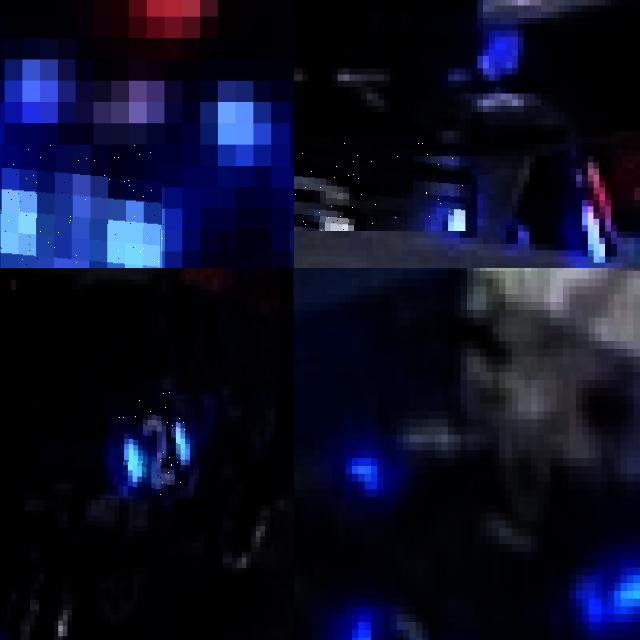B2: (105, 392, 195, 498)
B3: (0, 144, 164, 268), (294, 137, 471, 231), (339, 598, 467, 640)
